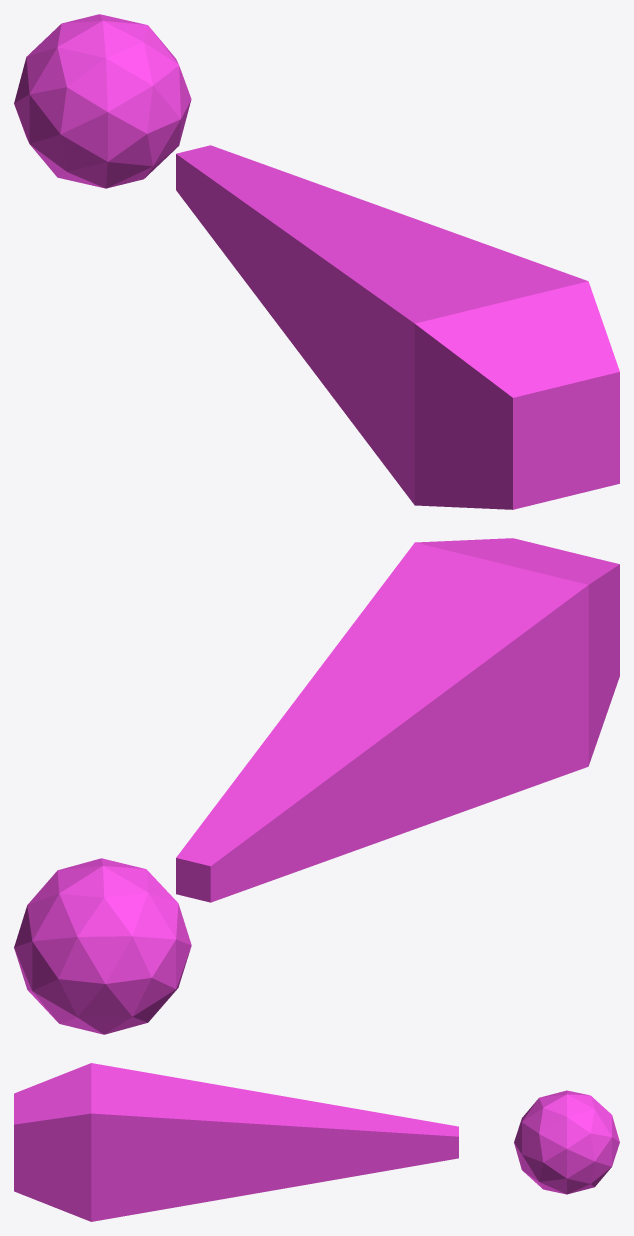
Rendered from missing.glb.
The picture shows the model from 3 angles, top to bottom: view 1: azimuth 30°, elevation 25°; view 2: azimuth 150°, elevation 25°; view 3: azimuth 270°, elevation 25°; orthographic projection. The views are drawn at different scales.
Visible parts, largest first — view 1: Cube, Icosphere; view 2: Cube, Icosphere; view 3: Cube, Icosphere.
Boxes of the visible parts, x1,y1,x2,y2 form: Cube: (176,145,619,509); Icosphere: (14,14,191,188); Cube: (176,538,619,902); Icosphere: (14,858,191,1034); Cube: (14,1063,458,1221); Icosphere: (514,1090,619,1194).
Bounding box in the file's own units: 0.4274 × 0.4274 × 2.16.
